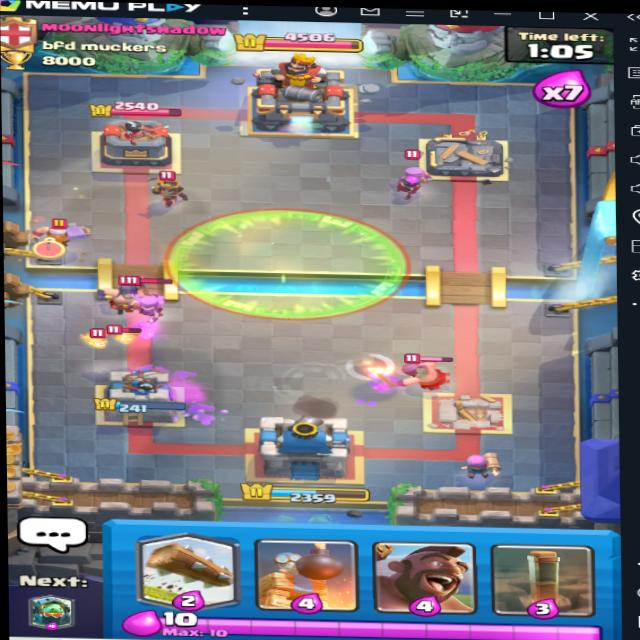Executioner: (86, 272, 164, 317), (393, 348, 454, 392)
Goblincurse: (165, 206, 414, 324)
Littleprince: (144, 168, 195, 212)
Lumberjack: (29, 217, 94, 259)
Motherwitch: (115, 275, 184, 328), (386, 147, 443, 203)
